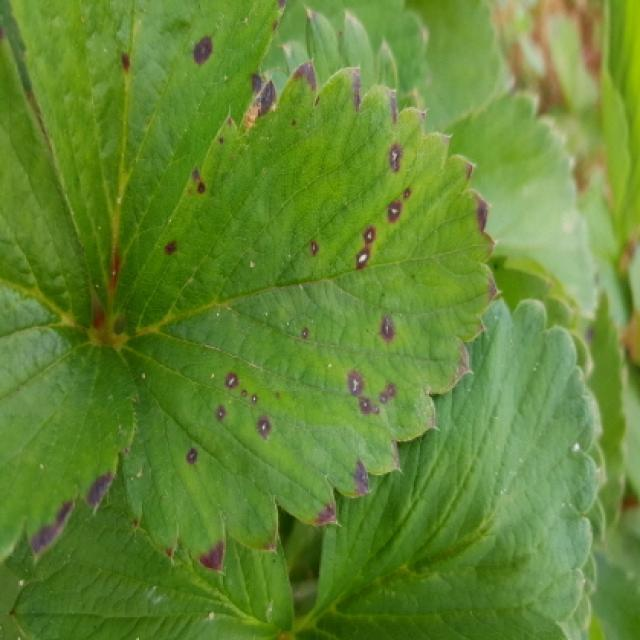Leaf Spot: (109, 57, 502, 575), (6, 0, 289, 324)
